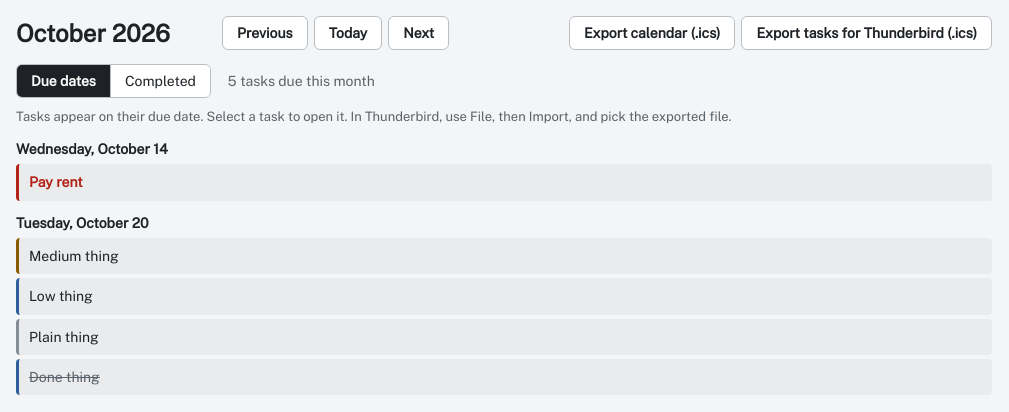
Scenario: CalendarView › shows an agenda list on small screens
Expected: the headings read "Wednesday, October 14", "Tuesday, October 20", in this order, [16, 141, 168, 157]; [16, 215, 149, 231]
Expected: the number of links is 5, [16, 164, 992, 201]; [16, 238, 992, 274]; [16, 278, 992, 315]; [16, 319, 992, 355]; [16, 359, 992, 395]
Click the button with aria-label "Previous month". click: (265, 33)
box: [222, 16, 308, 50]
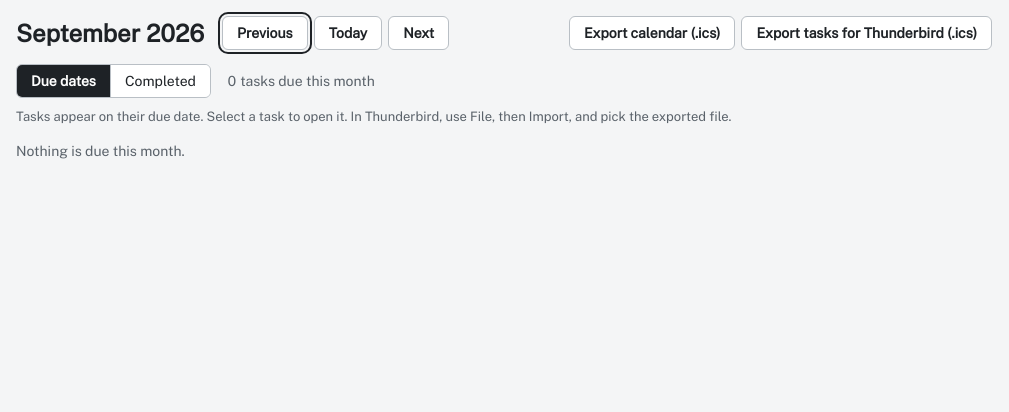
Result: the text "Nothing is due this month." is shown at [16, 143, 185, 159]
